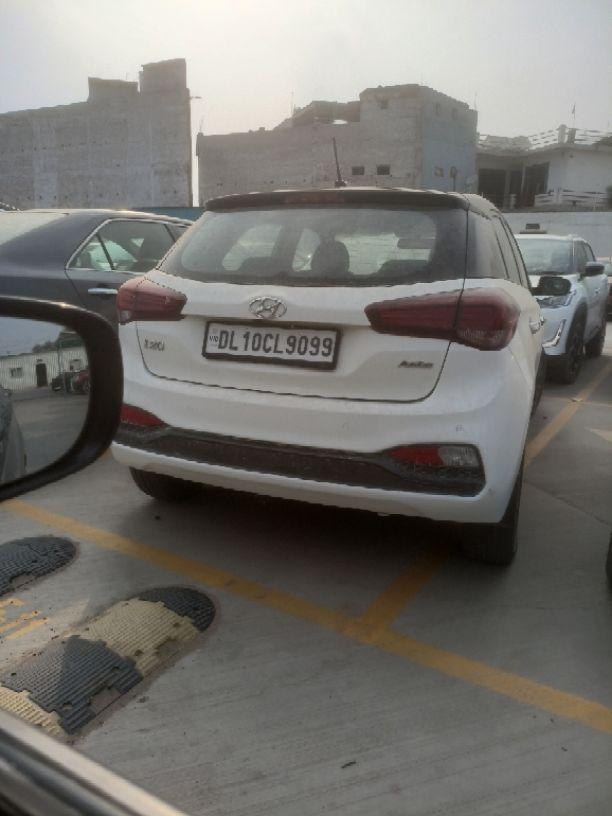license_plate: (201, 320, 340, 369)
